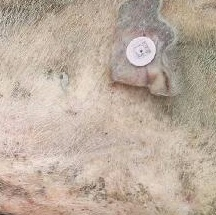text: (118, 26, 165, 73)
